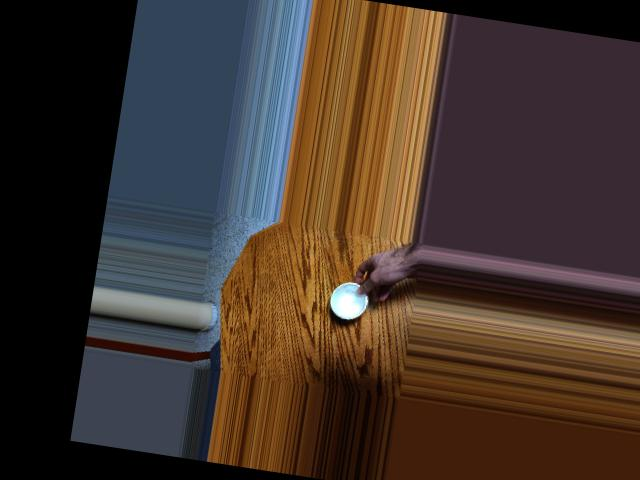cotage: (328, 276, 374, 324)
